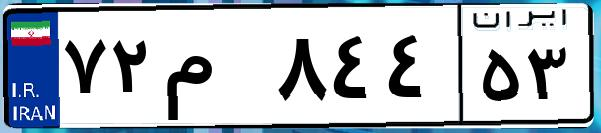2: (110, 28, 158, 98)
3: (525, 38, 570, 115)
4: (385, 28, 445, 110), (330, 28, 385, 110)
5: (475, 38, 525, 113)
7: (57, 26, 110, 100)
8: (270, 28, 330, 110)
م: (158, 20, 270, 120)
